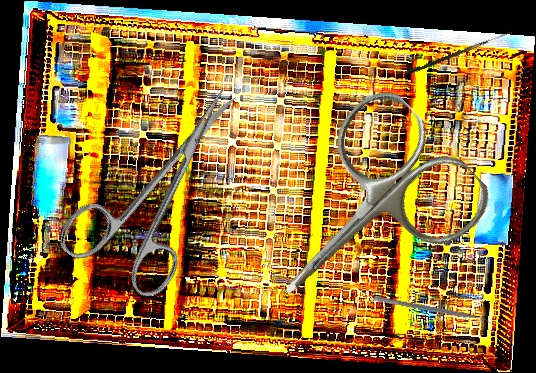Hook Surgical: (404, 26, 513, 78)
Iris Scissors: (226, 78, 502, 353), (51, 59, 282, 313)
Spatula Surgical: (372, 295, 492, 327)
